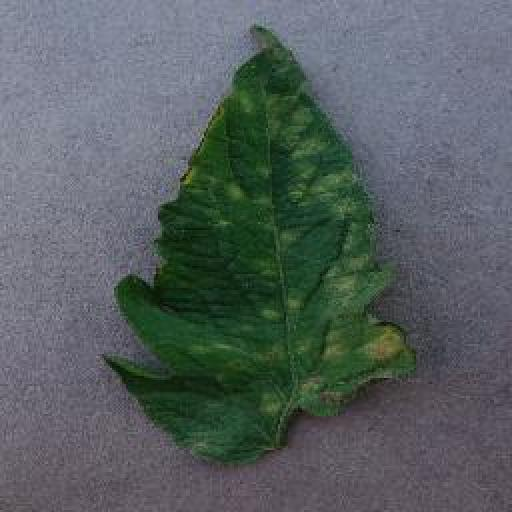disease_tomato: (102, 22, 418, 464)
